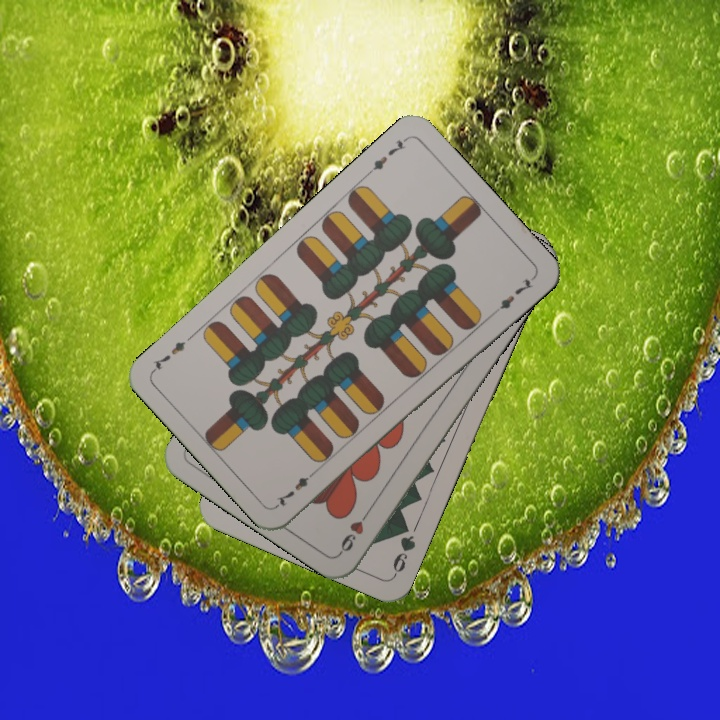E7: (363, 133, 411, 178), (272, 465, 320, 509)
G9: (388, 518, 418, 579)
H9: (335, 504, 374, 556)
